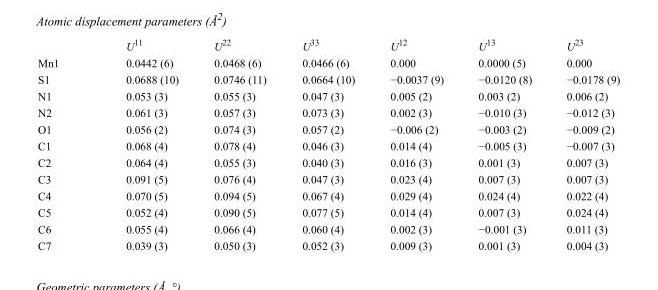table: (37, 36, 619, 251)
table column: (91, 36, 195, 251), (371, 36, 460, 251), (195, 36, 283, 251), (283, 36, 371, 251), (460, 36, 548, 251), (548, 36, 619, 251), (37, 36, 91, 251)
table column header: (37, 36, 619, 54)
table row: (37, 36, 619, 54), (37, 70, 619, 87), (37, 103, 619, 120), (37, 120, 619, 137), (37, 153, 619, 170), (37, 170, 619, 187), (37, 203, 619, 220), (37, 54, 619, 70), (37, 87, 619, 103), (37, 137, 619, 153), (37, 187, 619, 203), (37, 220, 619, 236), (37, 236, 619, 251)
